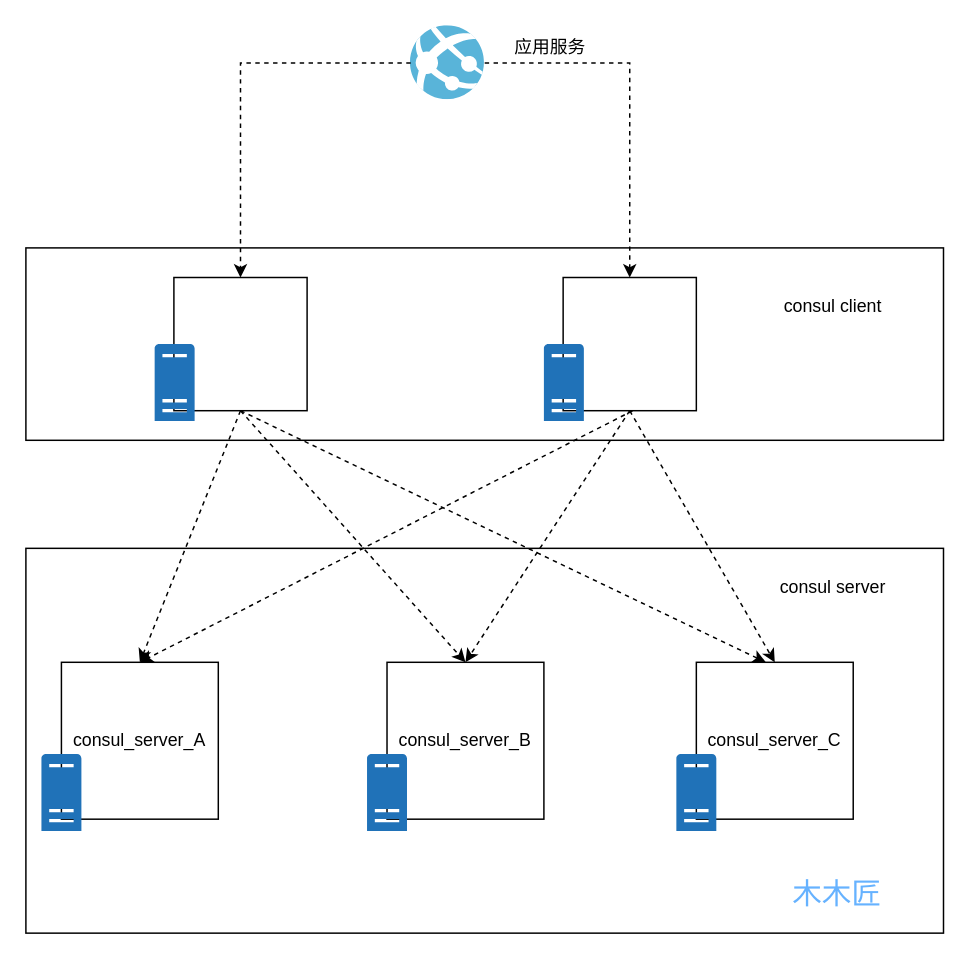
This 969x959 diagram has some shape labels left out. The shapes that lost their labels are listed below. From the top down, each one's box as (x1, y1, x2, y2) in pixels, then its label:
(172, 276, 307, 411): Client_A
(562, 276, 696, 411): Client_B
